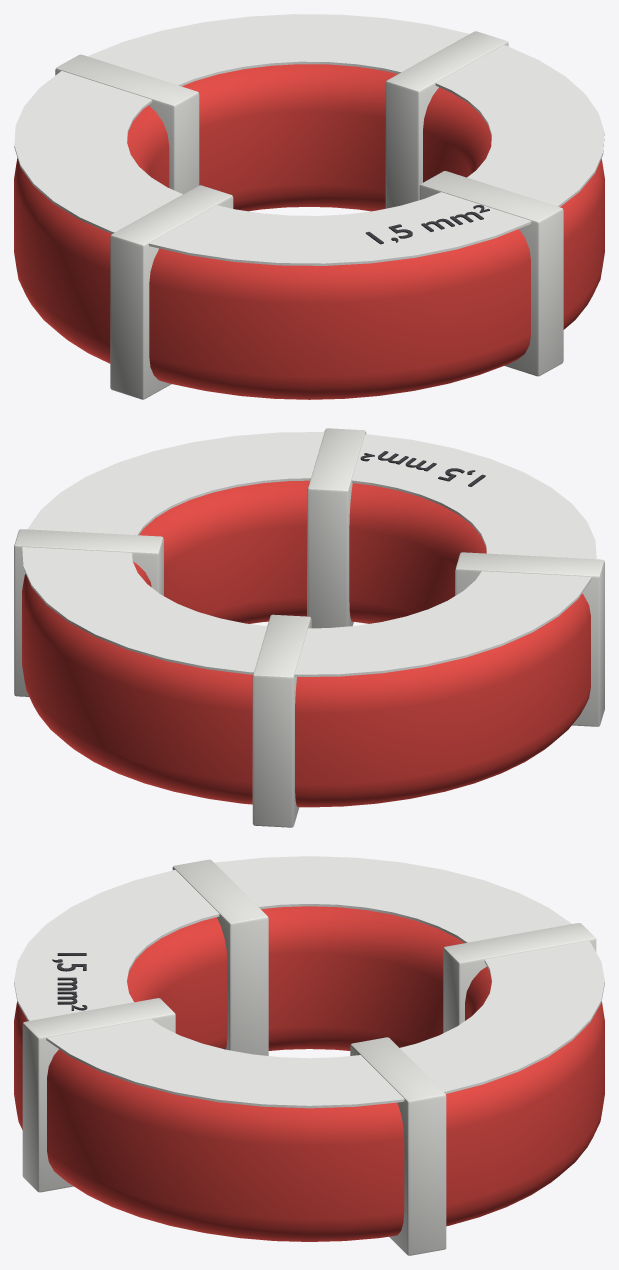
Rendered from ELE-FIO-001.glb.
3 renders of one model, top to bottom at view 1: azimuth 30°, elevation 25°; view 2: azimuth 150°, elevation 25°; view 3: azimuth 270°, elevation 25°, orthographic. The views are drawn at different scales.
Visible parts, largest first — view 1: ELE-FIO-001_rolo, ELE-FIO-001_etiqueta, ELE-FIO-001_fita2, ELE-FIO-001_fita3, ELE-FIO-001_fita0, ELE-FIO-001_fita1, ELE-FIO-001_texto; view 2: ELE-FIO-001_rolo, ELE-FIO-001_etiqueta, ELE-FIO-001_fita1, ELE-FIO-001_fita3, ELE-FIO-001_fita2, ELE-FIO-001_fita0, ELE-FIO-001_texto; view 3: ELE-FIO-001_rolo, ELE-FIO-001_etiqueta, ELE-FIO-001_fita0, ELE-FIO-001_fita2, ELE-FIO-001_fita3, ELE-FIO-001_fita1, ELE-FIO-001_texto.
Boxes of the visible parts, bbox=[...] form: ELE-FIO-001_rolo: bbox=[14, 64, 604, 399]; ELE-FIO-001_etiqueta: bbox=[14, 14, 604, 265]; ELE-FIO-001_fita2: bbox=[110, 185, 233, 399]; ELE-FIO-001_fita3: bbox=[419, 171, 563, 376]; ELE-FIO-001_fita0: bbox=[385, 31, 508, 208]; ELE-FIO-001_fita1: bbox=[55, 54, 199, 194]; ELE-FIO-001_texto: bbox=[365, 205, 489, 244]; ELE-FIO-001_rolo: bbox=[22, 480, 590, 807]; ELE-FIO-001_etiqueta: bbox=[22, 432, 596, 676]; ELE-FIO-001_fita1: bbox=[252, 614, 311, 827]; ELE-FIO-001_fita3: bbox=[307, 428, 366, 628]; ELE-FIO-001_fita2: bbox=[455, 552, 604, 726]; ELE-FIO-001_fita0: bbox=[14, 529, 163, 696]; ELE-FIO-001_texto: bbox=[360, 451, 485, 486]; ELE-FIO-001_rolo: bbox=[14, 906, 604, 1241]; ELE-FIO-001_etiqueta: bbox=[14, 856, 604, 1108]; ELE-FIO-001_fita0: bbox=[350, 1037, 446, 1255]; ELE-FIO-001_fita2: bbox=[172, 859, 268, 1055]; ELE-FIO-001_fita3: bbox=[22, 998, 175, 1192]; ELE-FIO-001_fita1: bbox=[443, 923, 596, 1032]; ELE-FIO-001_texto: bbox=[52, 953, 87, 1010].
Size of the model in its own units: 0.22 by 0.064 by 0.22.
